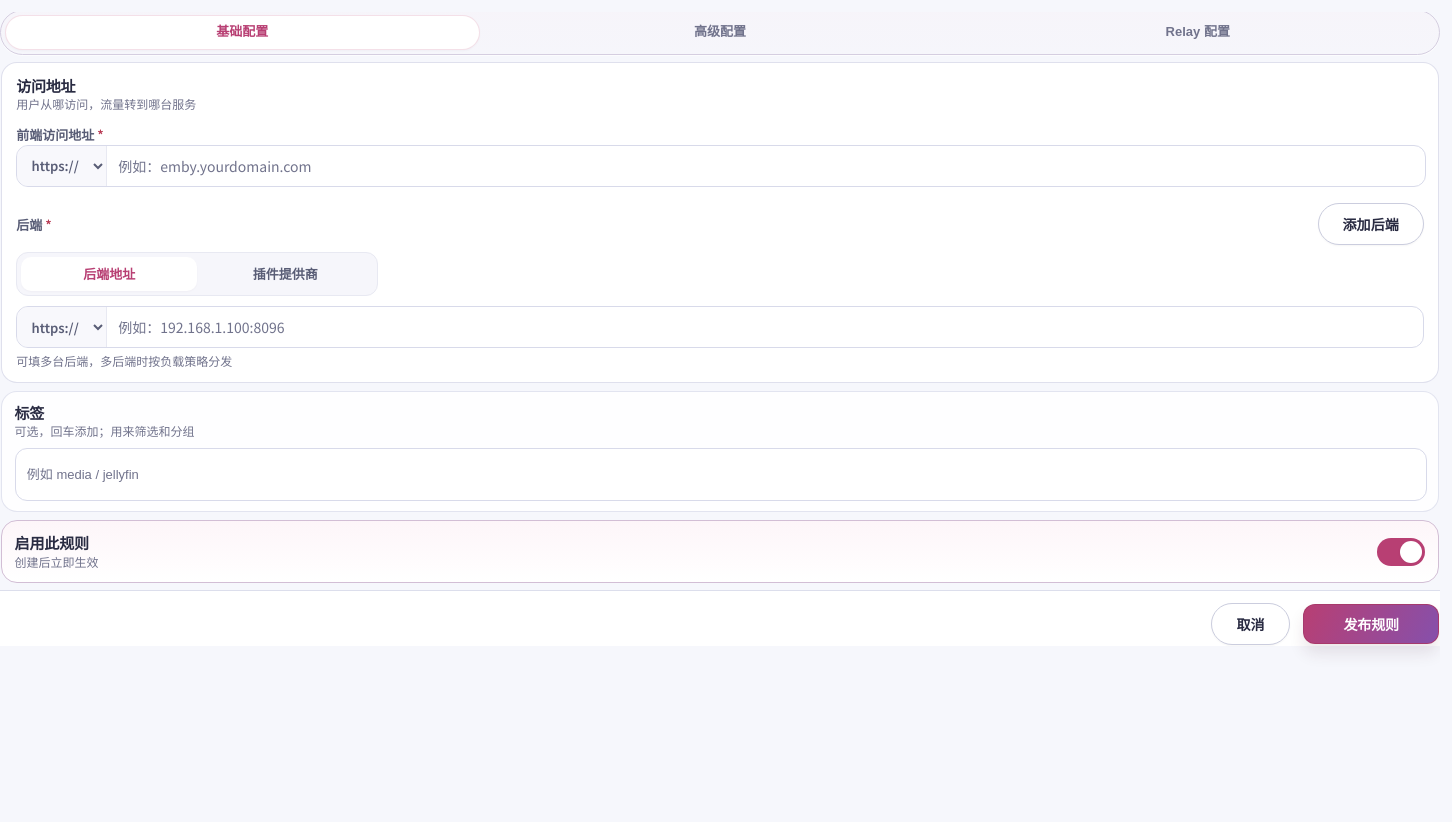
Scenario: RuleForm HTTP backend provider › does not submit an unavailable published-port offer
Type "media.example.com" into the field with id "frontend-url" at (766, 166), box 107,146 -> 1425,186
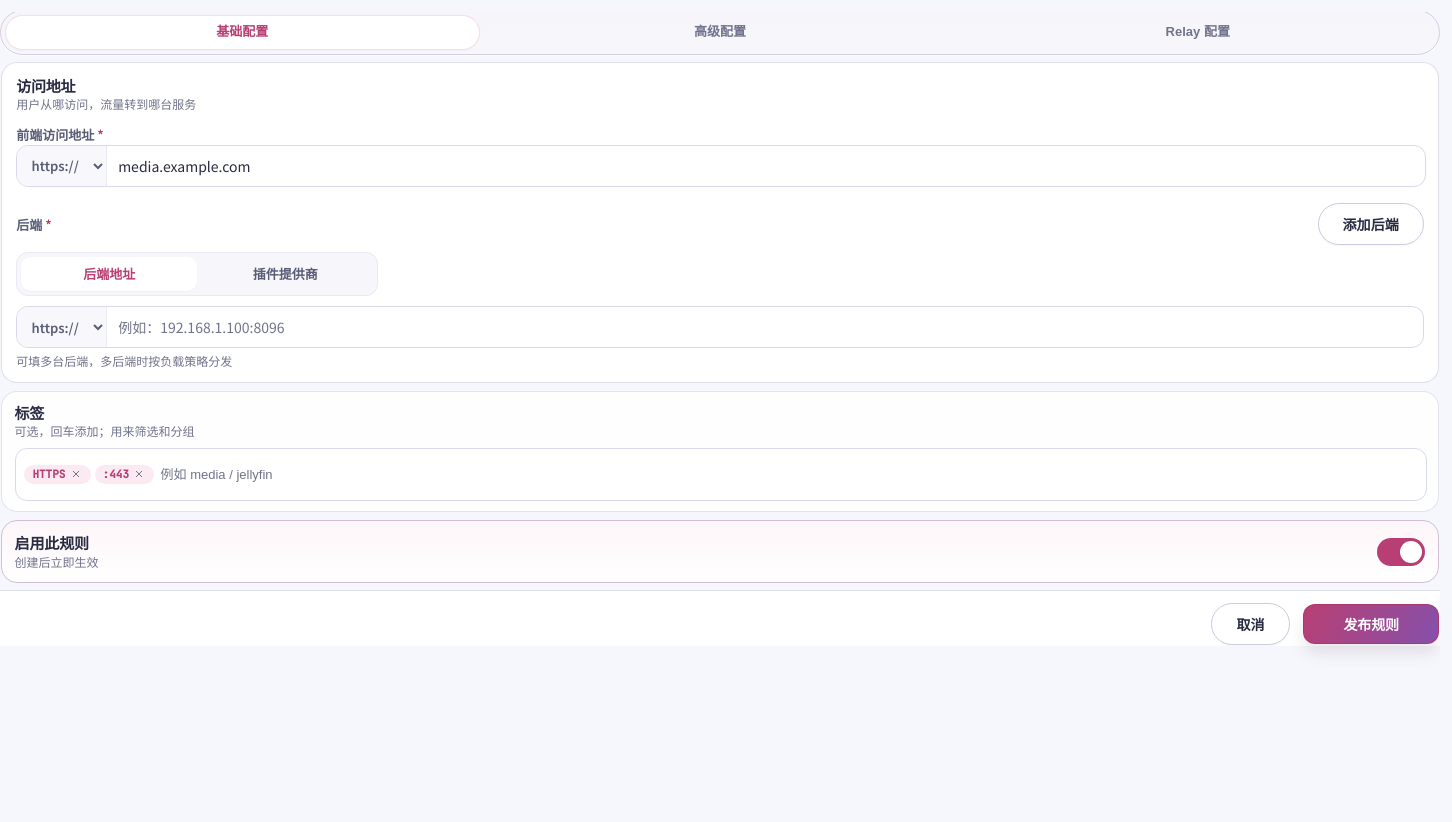
Click the button with class "backend-mode__option" showing "插件提供商" at (285, 274), box 197,257 -> 373,291
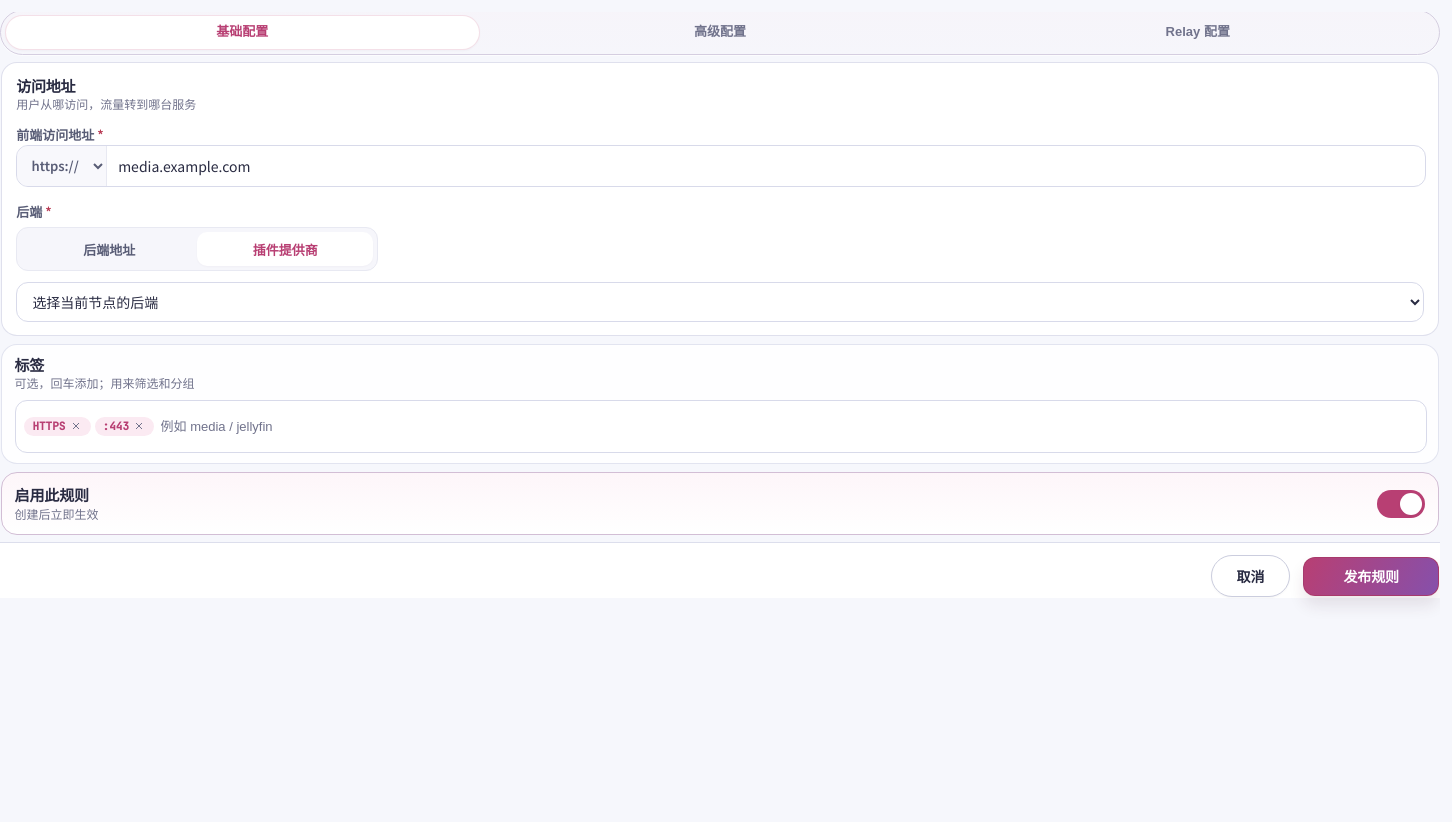
Select "hubproxy · 5000（当前不可用）" in the 2nd dropdown named "http-backend-provider" at (720, 302), box 16,282 -> 1424,322
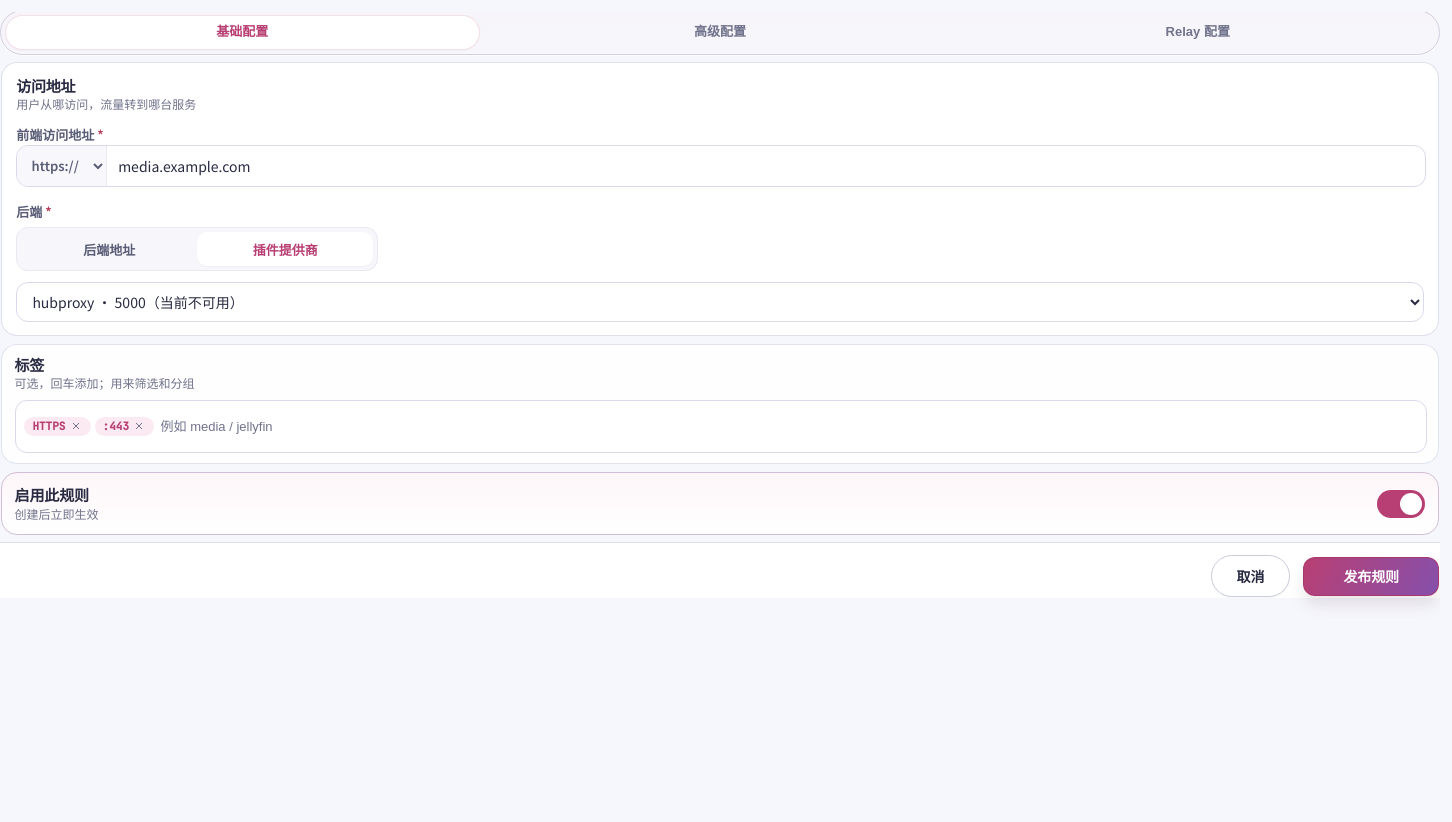
Submit the form
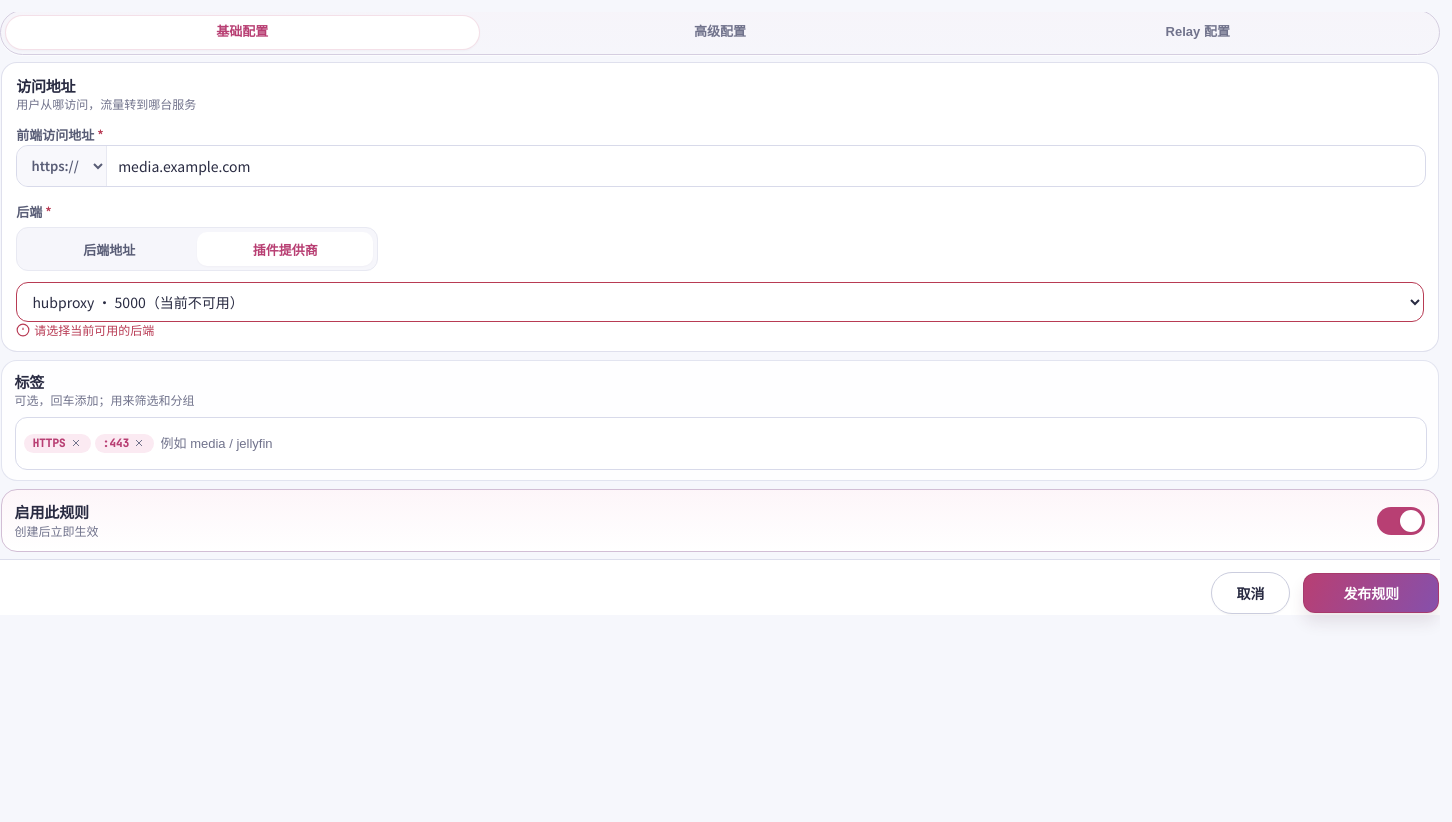
Result: the form shows "请选择当前可用的后端" at 34,321 -> 154,338
